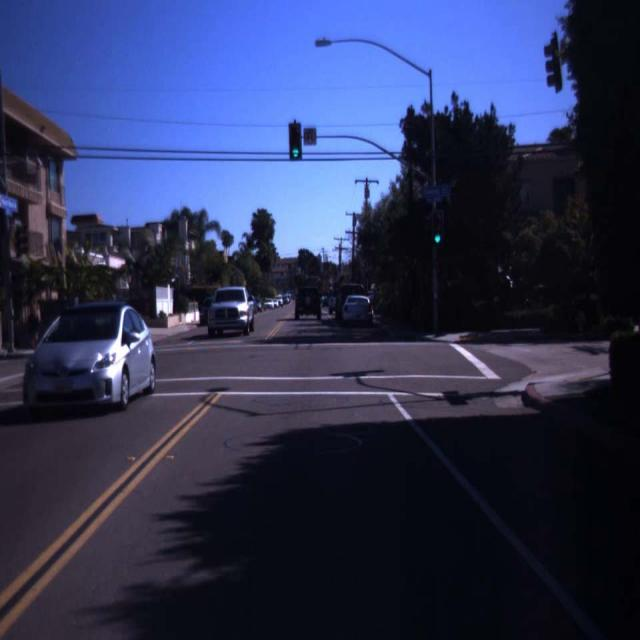yesil: (289, 123, 302, 160), (432, 212, 442, 244)
